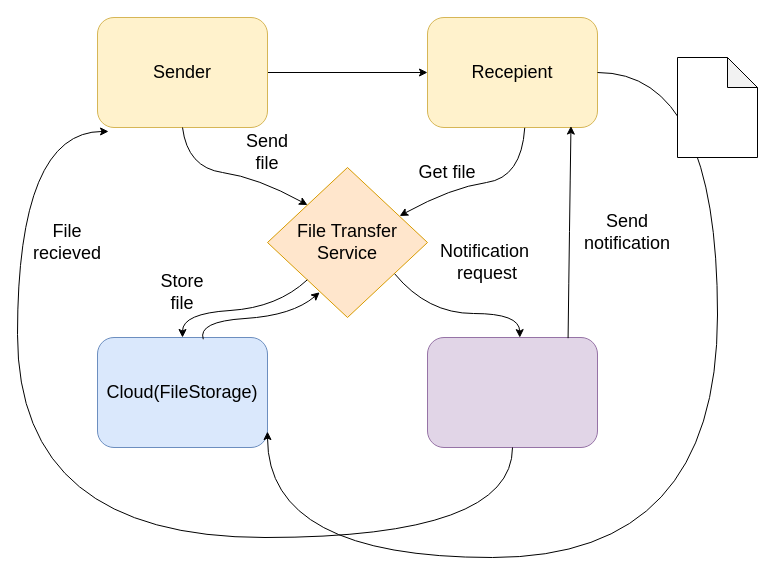
Some shapes in this 775 by 575 pixel diagram are drawn without their labels. Here are the shapes that lost their labels. From the top down, the centre of each, then its label:
the point at 717,107: User downloads file directly from Cloud using WebApp
the point at 512,392: Email Service
